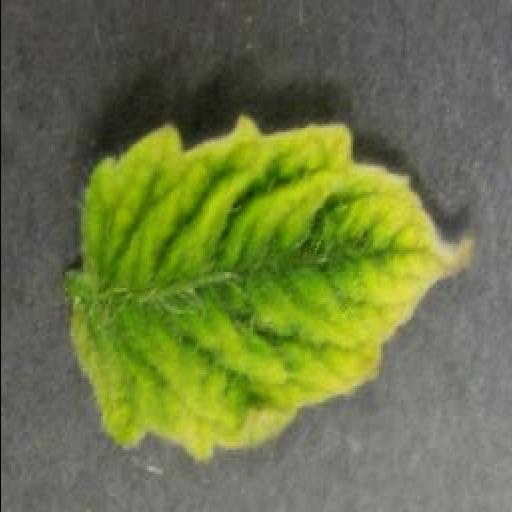disease_tomato: (64, 115, 474, 463)
